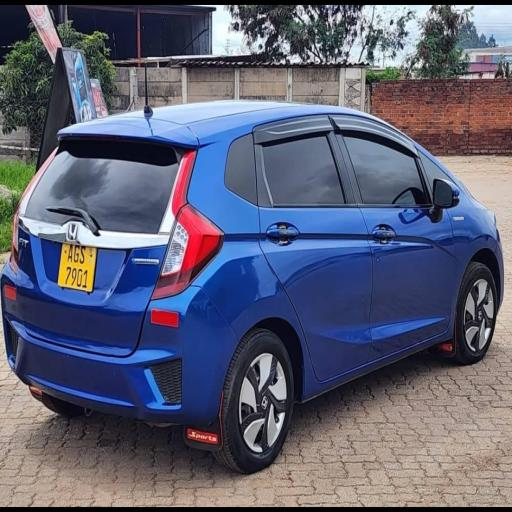number-plates: (60, 240, 94, 288)
